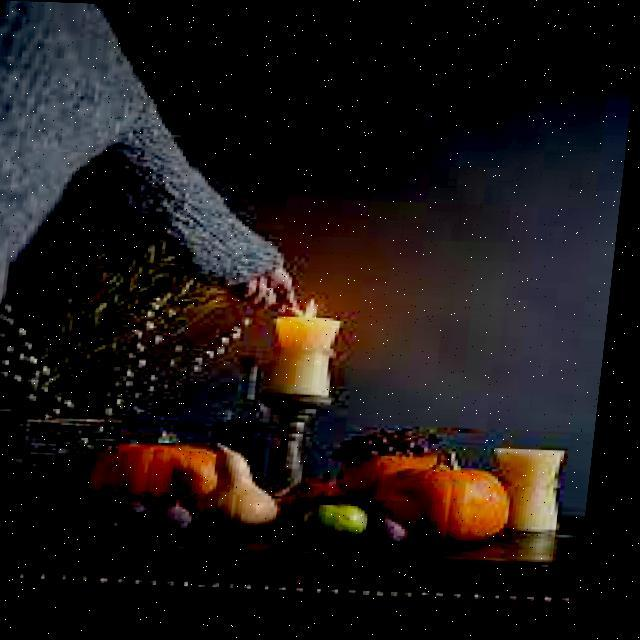Fire: (295, 286, 336, 318)
